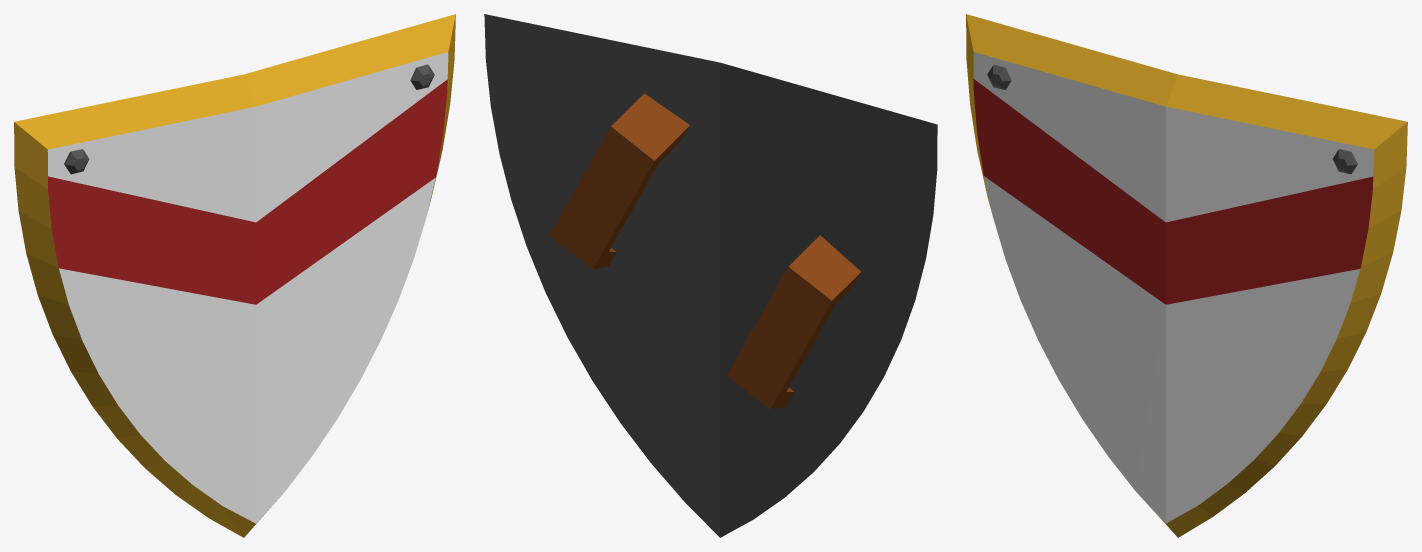
The model's file is Proto_Shield_Heater_01.fbx.
3 renders of one model, left to right at view 1: azimuth 30°, elevation 25°; view 2: azimuth 150°, elevation 25°; view 3: azimuth 330°, elevation 25°, orthographic. The views are drawn at different scales.
Parts seen in each view (by area): view 1: Proto_Shield_Heater_01; view 2: Proto_Shield_Heater_01; view 3: Proto_Shield_Heater_01.
Part boxes in pixels (left/top/right/bottom): Proto_Shield_Heater_01: left=14, top=14, right=455, bottom=537; Proto_Shield_Heater_01: left=484, top=14, right=937, bottom=537; Proto_Shield_Heater_01: left=966, top=14, right=1407, bottom=537.
Bounding box in the file's own units: 0.4801 × 0.4812 × 0.0742.
